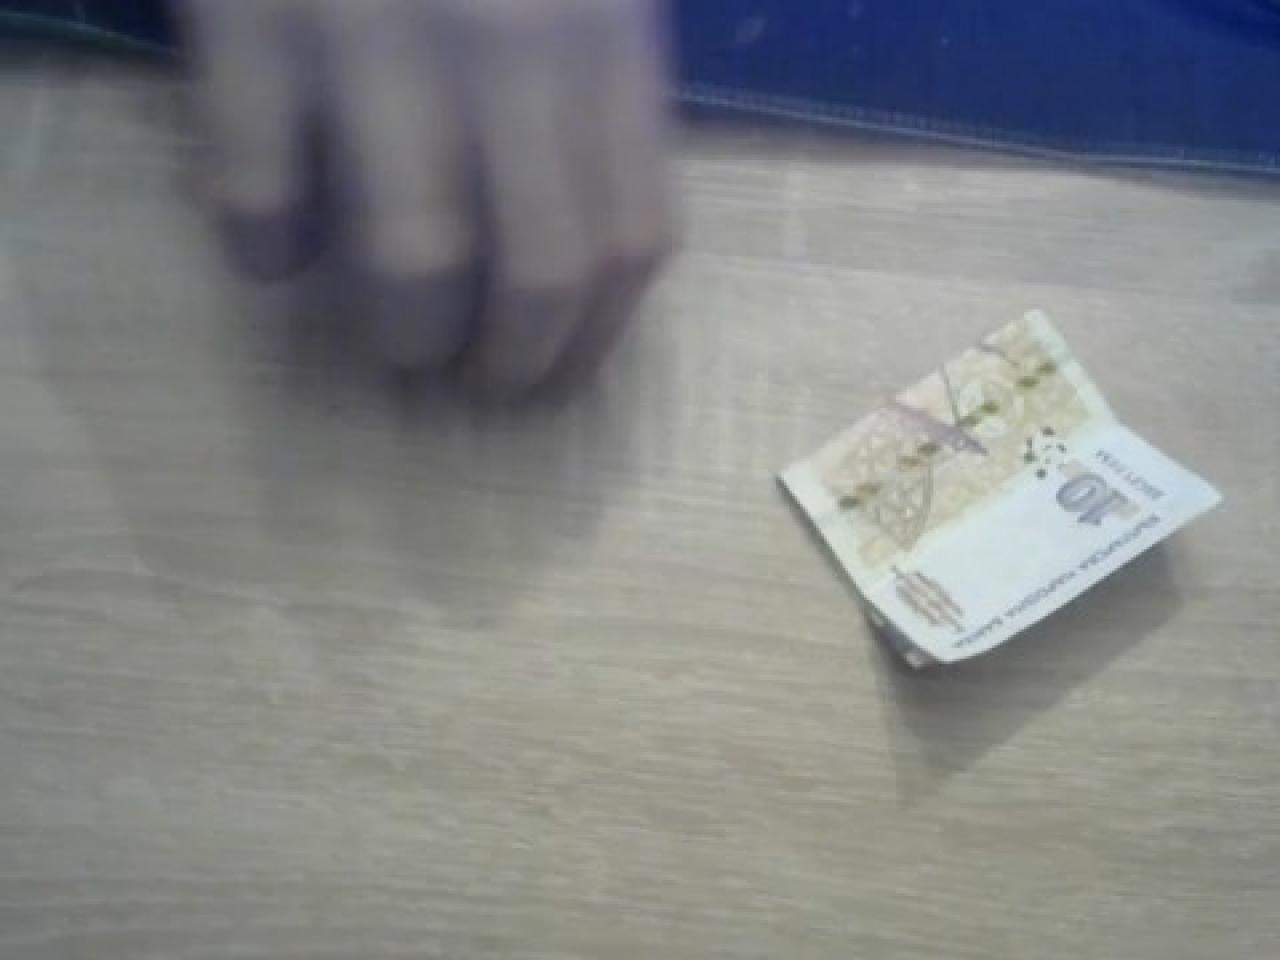10leva: (773, 305, 1222, 675)
